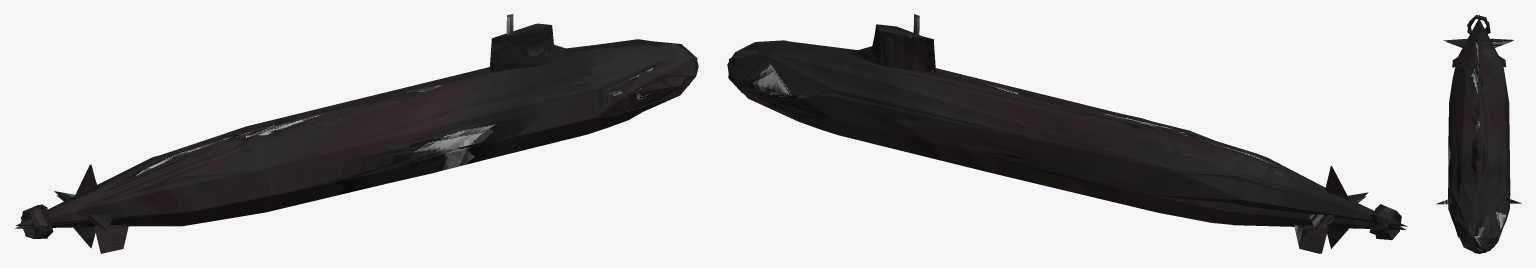
The picture shows the model from 3 angles, left to right: view 1: azimuth 30°, elevation 25°; view 2: azimuth 150°, elevation 25°; view 3: azimuth 270°, elevation 25°; orthographic projection. The views are drawn at different scales.
Parts seen in each view (by area): view 1: Object_4; view 2: Object_4; view 3: Object_4.
Part boxes in pixels (x1,y1,x2,y2): Object_4: (15, 14, 698, 253); Object_4: (727, 14, 1407, 253); Object_4: (1436, 14, 1521, 253).
Bounding box in the file's own units: 15.38 × 2.89 × 2.49.
Materials: 1 (1 with a texture image).
